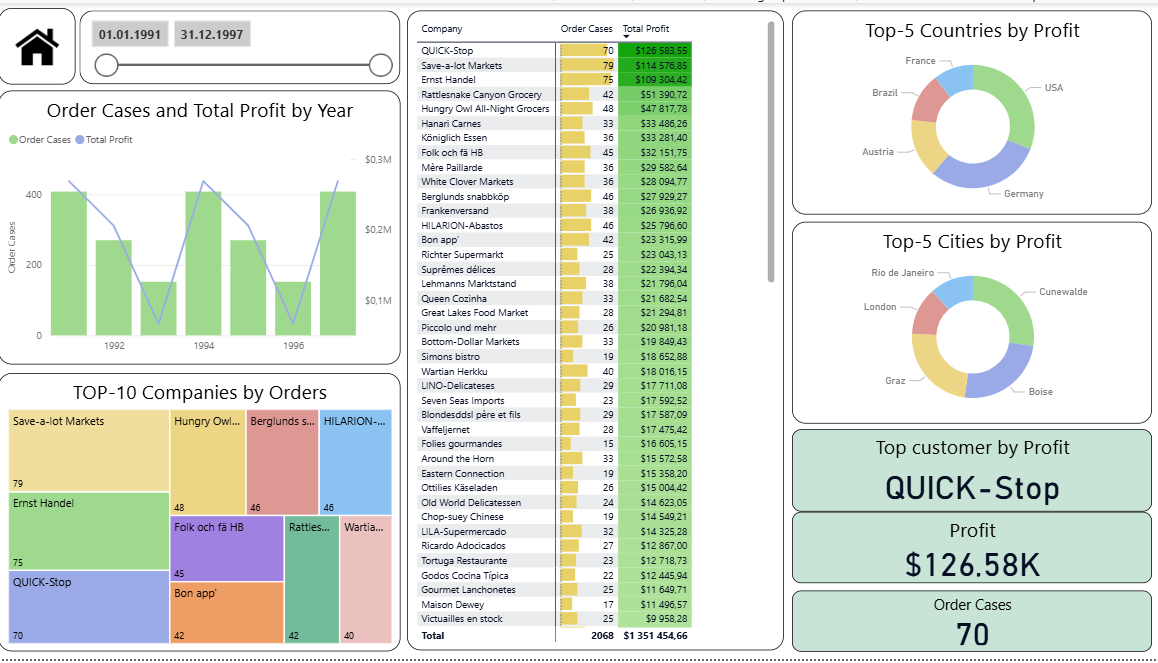

The page's visual inventory and layout, read from the dashboard file:
{"tool":"powerbi","page":{"name":"Clients Overview","canvas":[1280,720],"ordinal":4},"visuals":[{"type":"pivotTable","fields":{"Values":["NW_Orders_Total.Order_Cases","NW_Orders_Details_Total.Total Profit"],"Rows":["customers_dir.company_name"]},"box":[455.3,8.9,413.7,702.7],"z":1000},{"type":"lineClusteredColumnComboChart","fields":{"Y":["NW_Orders_Details_Total.Order_Cases_Dist"],"Y2":["NW_Orders_Details_Total.Total Profit"],"Category":["Calendar.Year"]},"box":[6.9,96,441.4,300.9],"z":2000},{"type":"donutChart","title":"Top-5 Countries by Profit","fields":{"Category":["customers_dir.country"],"Y":["NW_Orders_Details_Total.Total Profit"]},"box":[877.9,8.9,394.9,223.7],"z":3000},{"type":"card","title":"Top customer by Profit","fields":{"Values":["Min(customers_dir.company_name)"]},"box":[878.2,467.9,395.2,90.6],"z":4000},{"type":"card","title":"Profit","fields":{"Values":["NW_Orders_Details_Total.Total Profit"]},"box":[877.9,559.2,394.9,78.2],"z":5000},{"type":"card","title":"Order Cases","fields":{"Values":["NW_Orders_Details_Total.Order_Cases_Dist"]},"box":[877.9,644.3,394.9,67.3],"z":6000},{"type":"treemap","title":"TOP-10 Companies by Orders","fields":{"Group":["customers_dir.company_name"],"Values":["NW_Orders_Details_Total.Order_Cases_Dist"]},"box":[6.9,405.8,441.4,305.8],"z":7000},{"type":"donutChart","title":"Top-5 Cities by Profit","fields":{"Y":["NW_Orders_Details_Total.Total Profit"],"Category":["customers_dir.city"]},"box":[877.9,239.5,394.9,221.7],"z":8000},{"type":"slicer","fields":{"Values":["Calendar.Date"]},"box":[96,8.9,352.3,81.2],"z":9000},{"type":"image","box":[6.9,6.1,84.8,83.9],"z":10000}]}

Visuals, with their boxes in screenshot pixels (x1, y1, x2, y2), scaled from the page's 1280x720 canvas onto the 1158x663 screenshot:
pivotTable - NW_Orders_Total.Order_Cases x NW_Orders_Details_Total.Total Profit: [412,8,786,655]
lineClusteredColumnComboChart - NW_Orders_Details_Total.Order_Cases_Dist x NW_Orders_Details_Total.Total Profit: [6,88,406,365]
"Top-5 Countries by Profit" donutChart: [794,8,1151,214]
"Top customer by Profit" card: [794,431,1152,514]
"Profit" card: [794,515,1151,587]
"Order Cases" card: [794,593,1151,655]
"TOP-10 Companies by Orders" treemap: [6,374,406,655]
"Top-5 Cities by Profit" donutChart: [794,221,1151,425]
slicer - Calendar.Date: [87,8,406,83]
image: [6,6,83,83]
